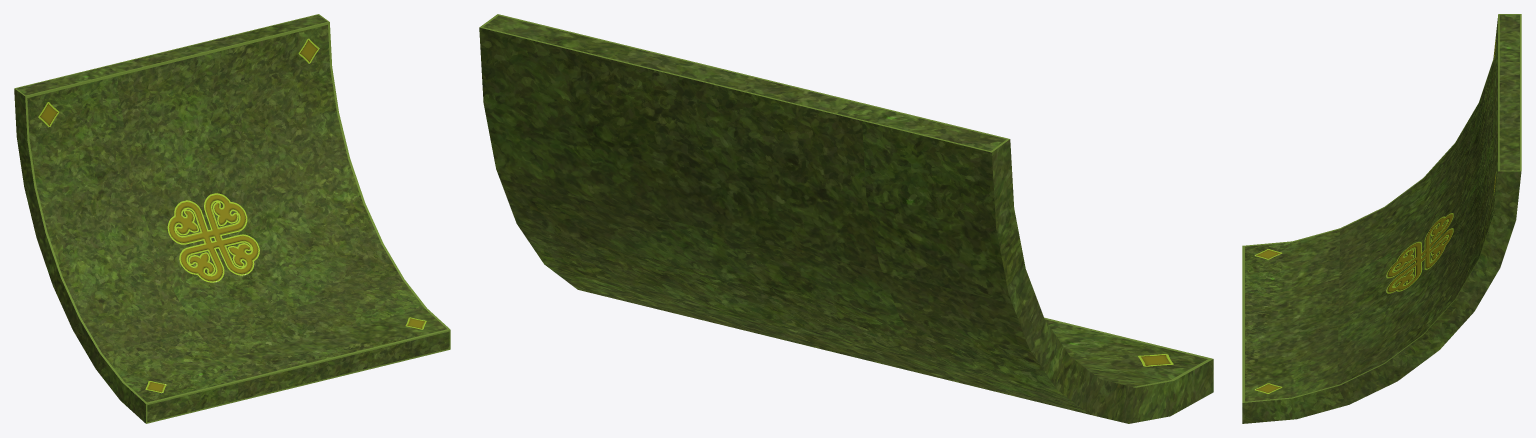
The model's file is mountain_quarter_circle.gltf.
3 views of the same model, side by side, from view 1: azimuth 30°, elevation 25°; view 2: azimuth 150°, elevation 25°; view 3: azimuth 270°, elevation 25° (orthographic). The views are drawn at different scales.
Parts seen in each view (by area): view 1: mountain_quarter_circle_glb; view 2: mountain_quarter_circle_glb; view 3: mountain_quarter_circle_glb.
Boxes of the visible parts, left/top/right/bottom form: mountain_quarter_circle_glb: left=14, top=14, right=450, bottom=423; mountain_quarter_circle_glb: left=479, top=14, right=1213, bottom=423; mountain_quarter_circle_glb: left=1242, top=14, right=1521, bottom=423.
Size of what is drawn, in the model's own units: 4 by 3 by 3.
Materials: 2 (2 with a texture image).
